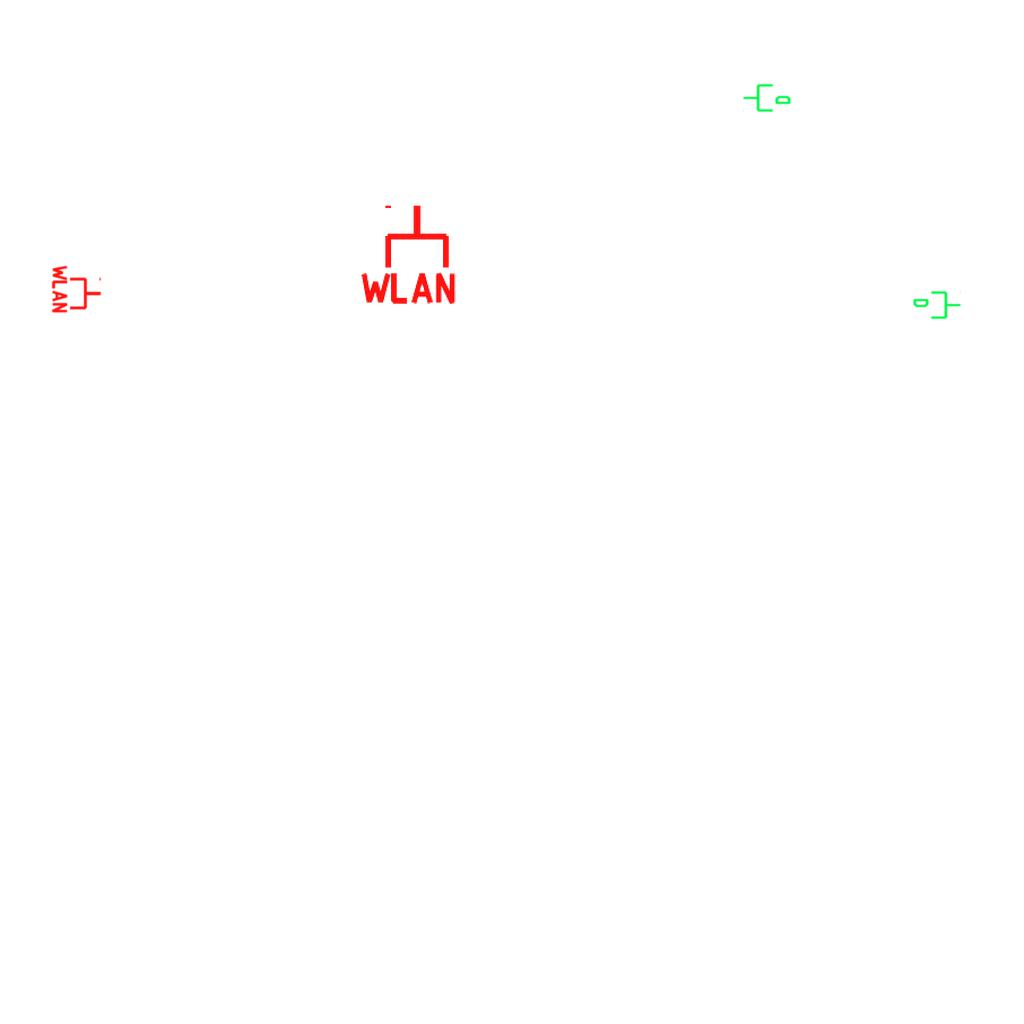Datenanschluss_einfach: (912, 289, 962, 323), (742, 80, 792, 114)
WLAN: (356, 201, 460, 306), (51, 263, 103, 315)
